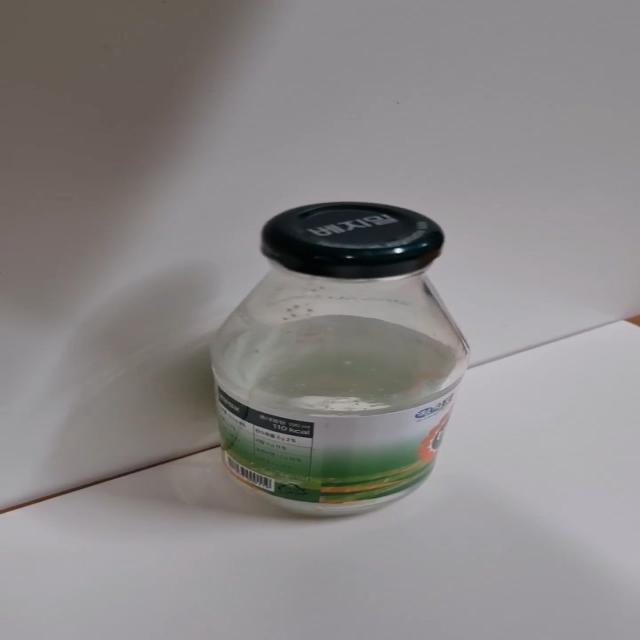Glass: (200, 199, 470, 520)
